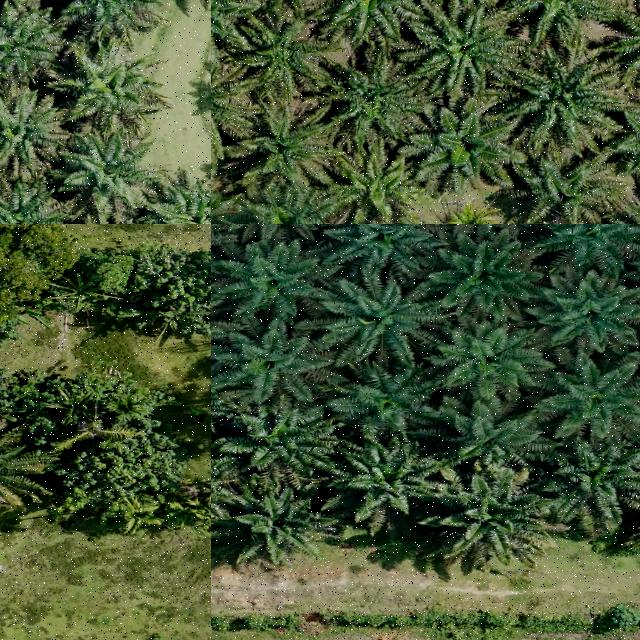Ganoderma: (440, 209, 489, 224)
